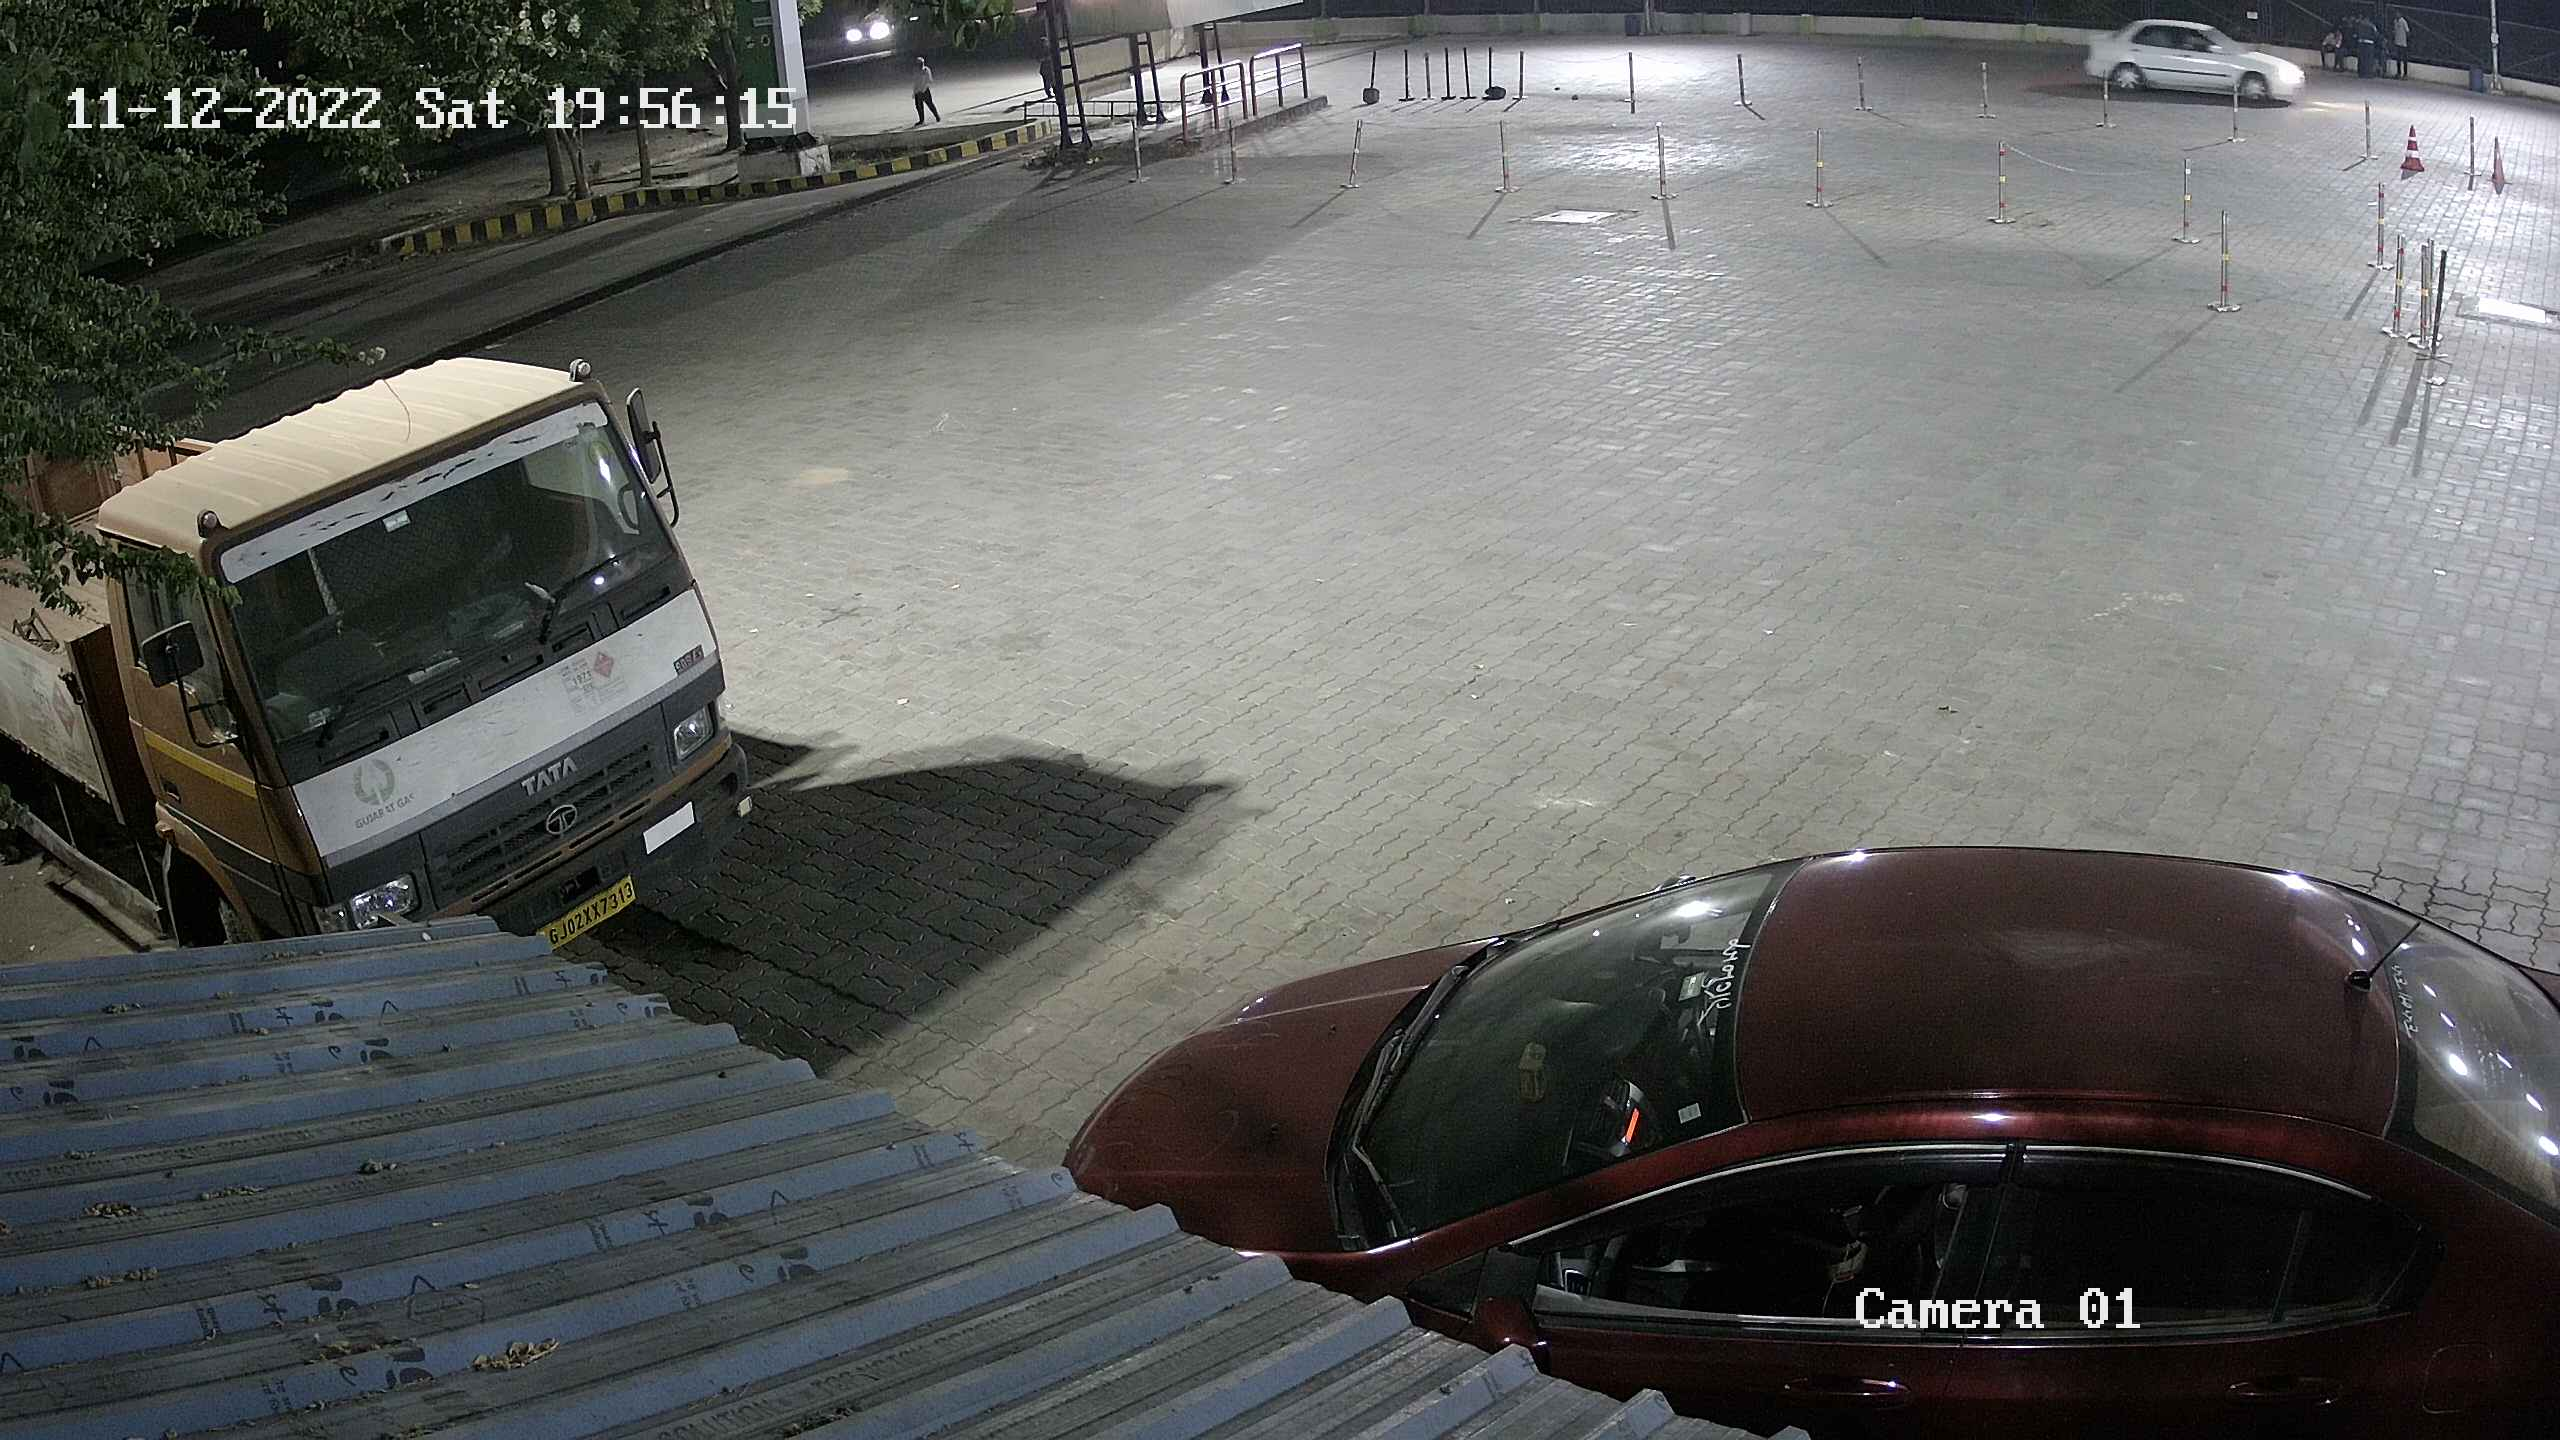Car: (1051, 825, 2558, 1435), (2075, 0, 2310, 120)
HMV: (0, 325, 763, 965)
